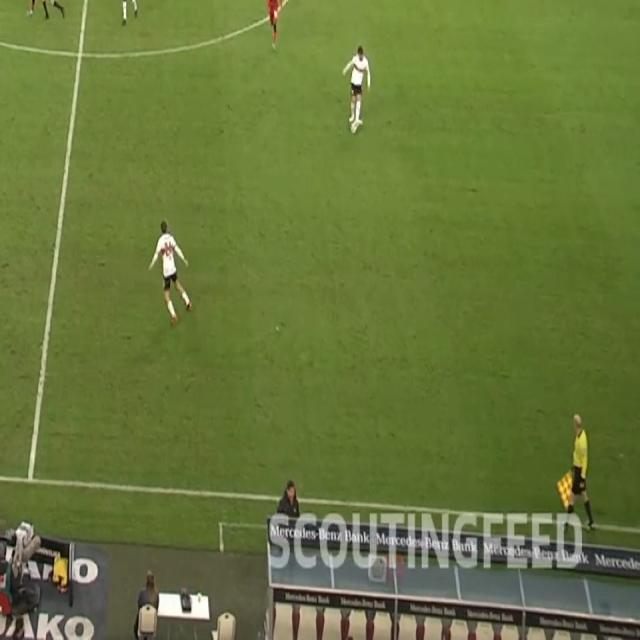ball: (349, 118, 359, 135)
